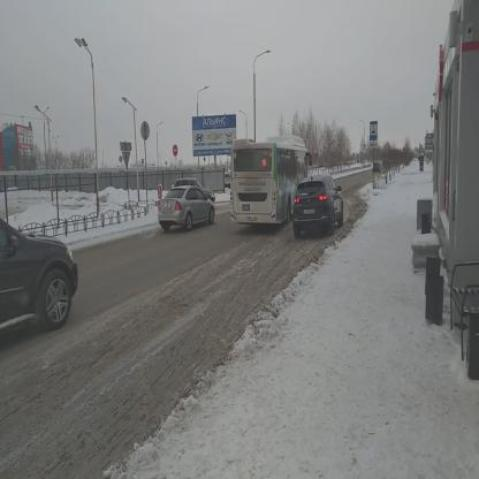bus: (230, 136, 314, 227)
car: (0, 217, 85, 330), (291, 170, 352, 232), (160, 182, 217, 230)
